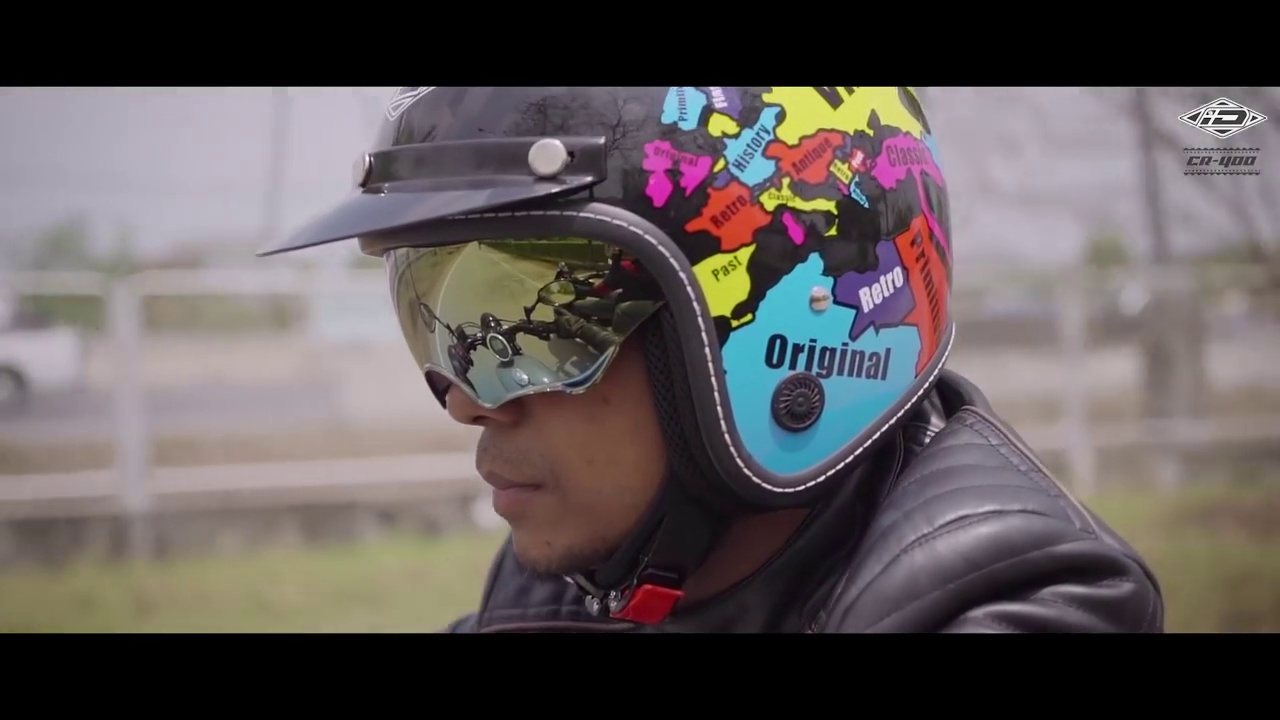helmet: (302, 87, 983, 558)
